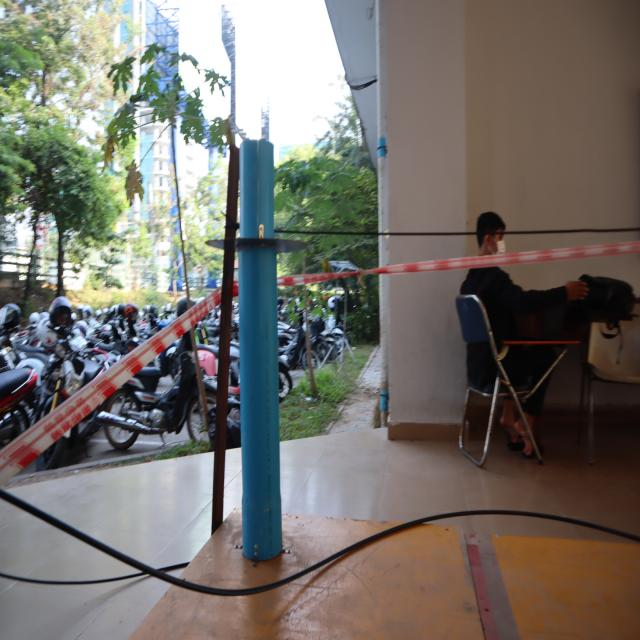pole: (205, 121, 306, 336)
